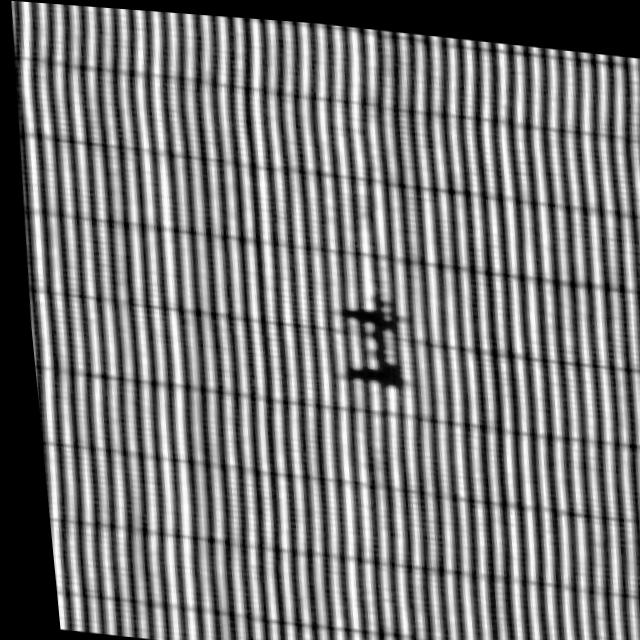Stitch: (292, 265, 441, 413)
